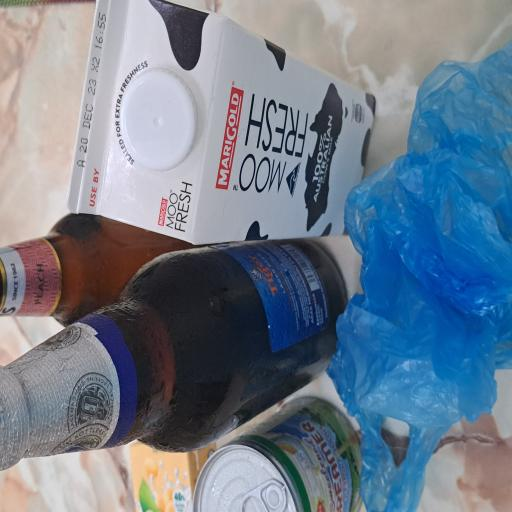can: (0, 251, 89, 483)
drink carton: (199, 82, 371, 507), (0, 164, 67, 286)
glass bottle: (26, 0, 202, 461), (137, 0, 235, 263)
plastic bag: (2, 436, 352, 512)
pop tab: (0, 317, 28, 387)
